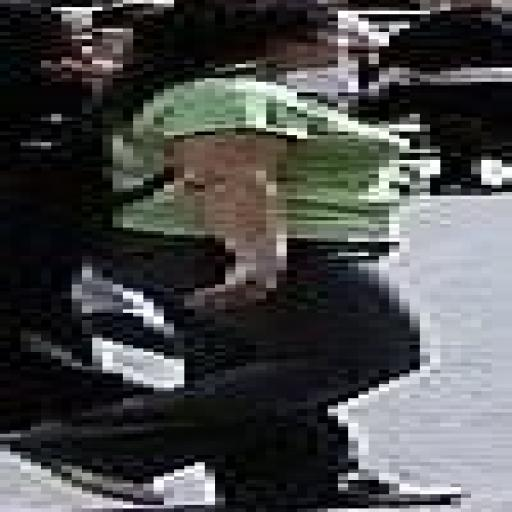person: (11, 0, 460, 511), (0, 0, 143, 430), (379, 0, 511, 191)
